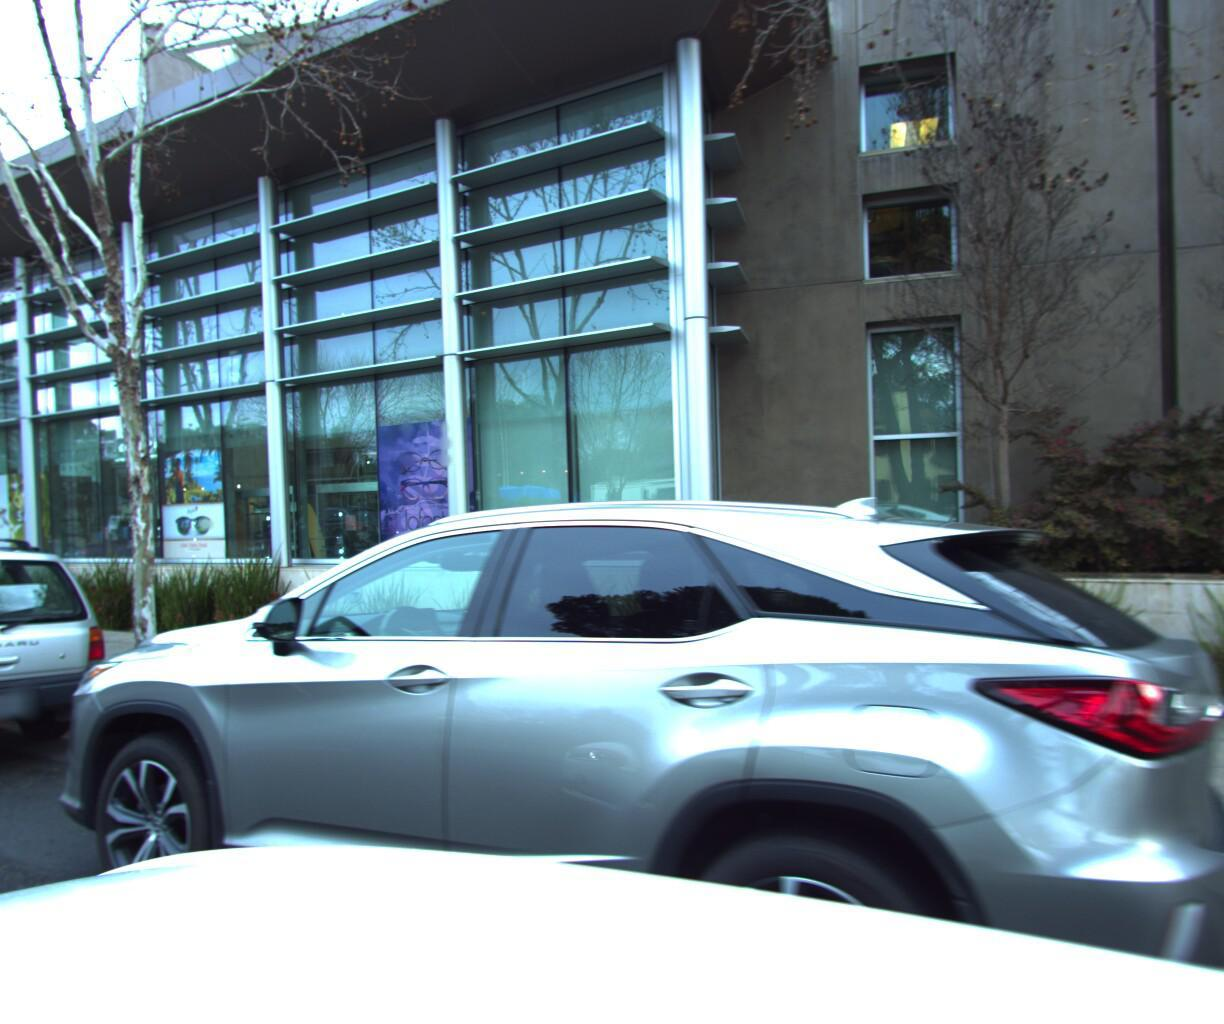car: (0, 471, 1224, 1024), (0, 518, 165, 815)
